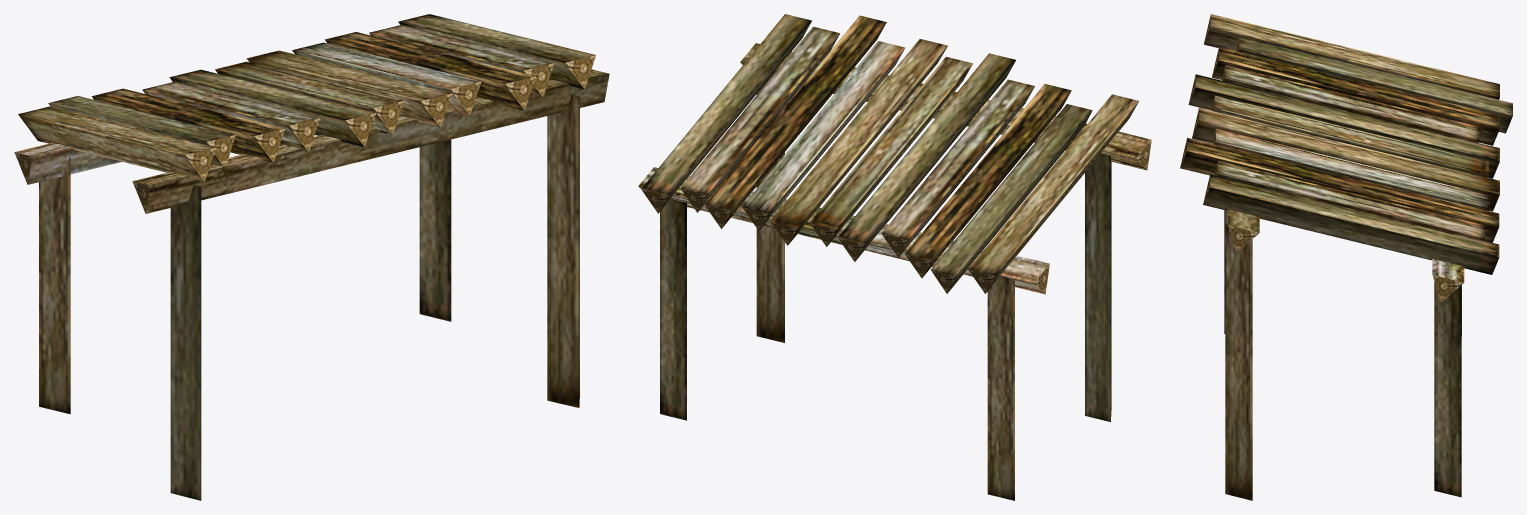
Rendered from awning_wooden_lg.dae.
3 renders of one model, left to right at view 1: azimuth 30°, elevation 25°; view 2: azimuth 150°, elevation 25°; view 3: azimuth 270°, elevation 25°, orthographic. The views are drawn at different scales.
Parts seen in each view (by area): view 1: Object01; view 2: Object01; view 3: Object01.
Boxes of the visible parts, left/top/right/bottom form: Object01: left=14, top=14, right=609, bottom=500; Object01: left=638, top=14, right=1151, bottom=500; Object01: left=1180, top=14, right=1512, bottom=500.
Bounding box in the file's own units: 7.33 × 5.55 × 5.31.
